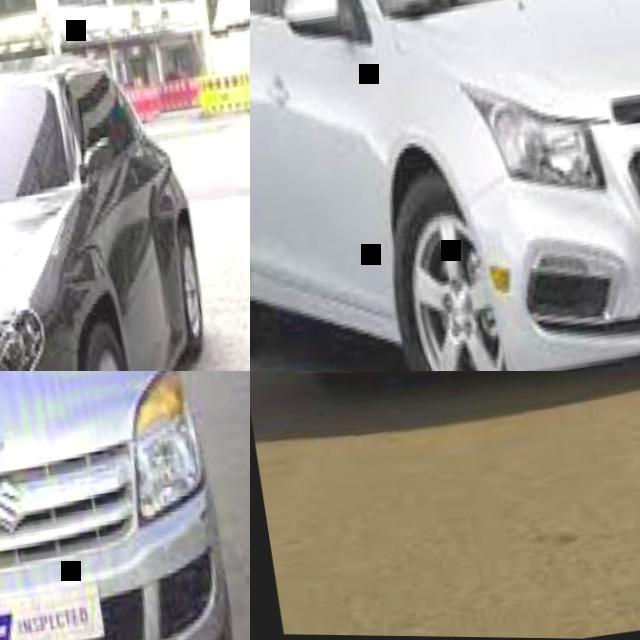car: (287, 0, 640, 375), (1, 40, 202, 372)
